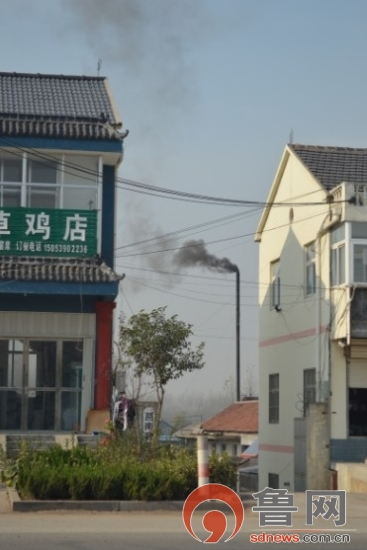dust: (173, 234, 246, 278)
